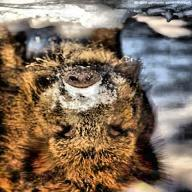boar: (0, 2, 175, 192)
